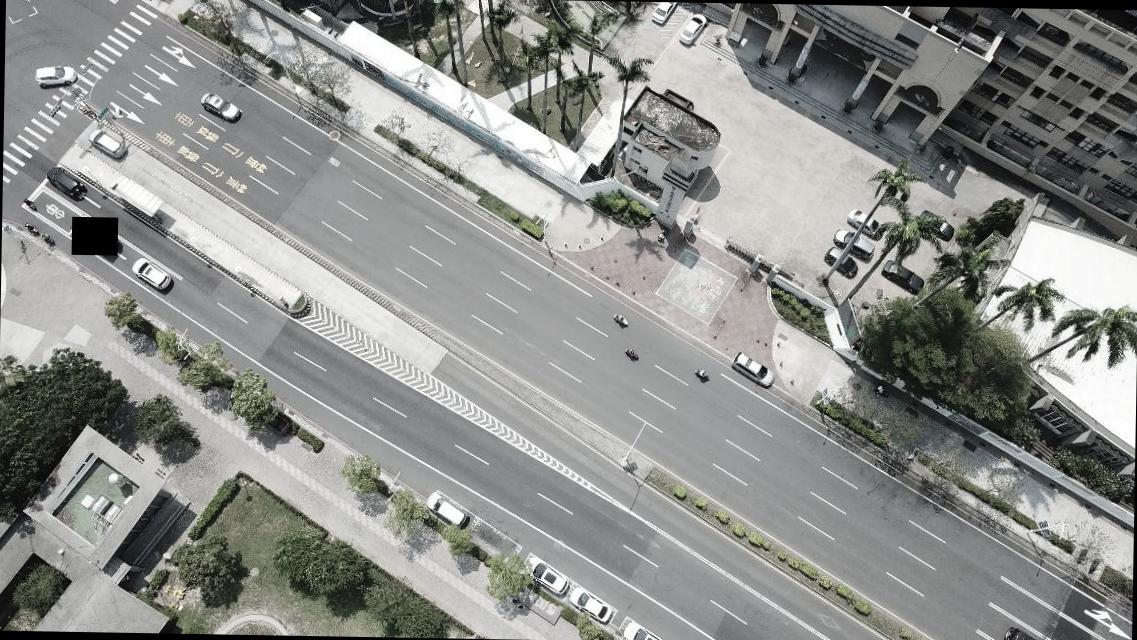vehicle: (523, 556, 570, 596), (566, 585, 614, 623), (728, 352, 776, 386), (423, 492, 468, 528), (880, 260, 926, 294), (46, 164, 88, 200), (130, 257, 171, 293), (199, 92, 241, 124), (915, 209, 955, 242), (833, 230, 874, 262), (824, 245, 860, 278), (846, 208, 883, 240), (88, 128, 124, 160), (678, 13, 708, 47), (621, 617, 667, 639), (35, 64, 75, 88), (648, 2, 678, 26)
